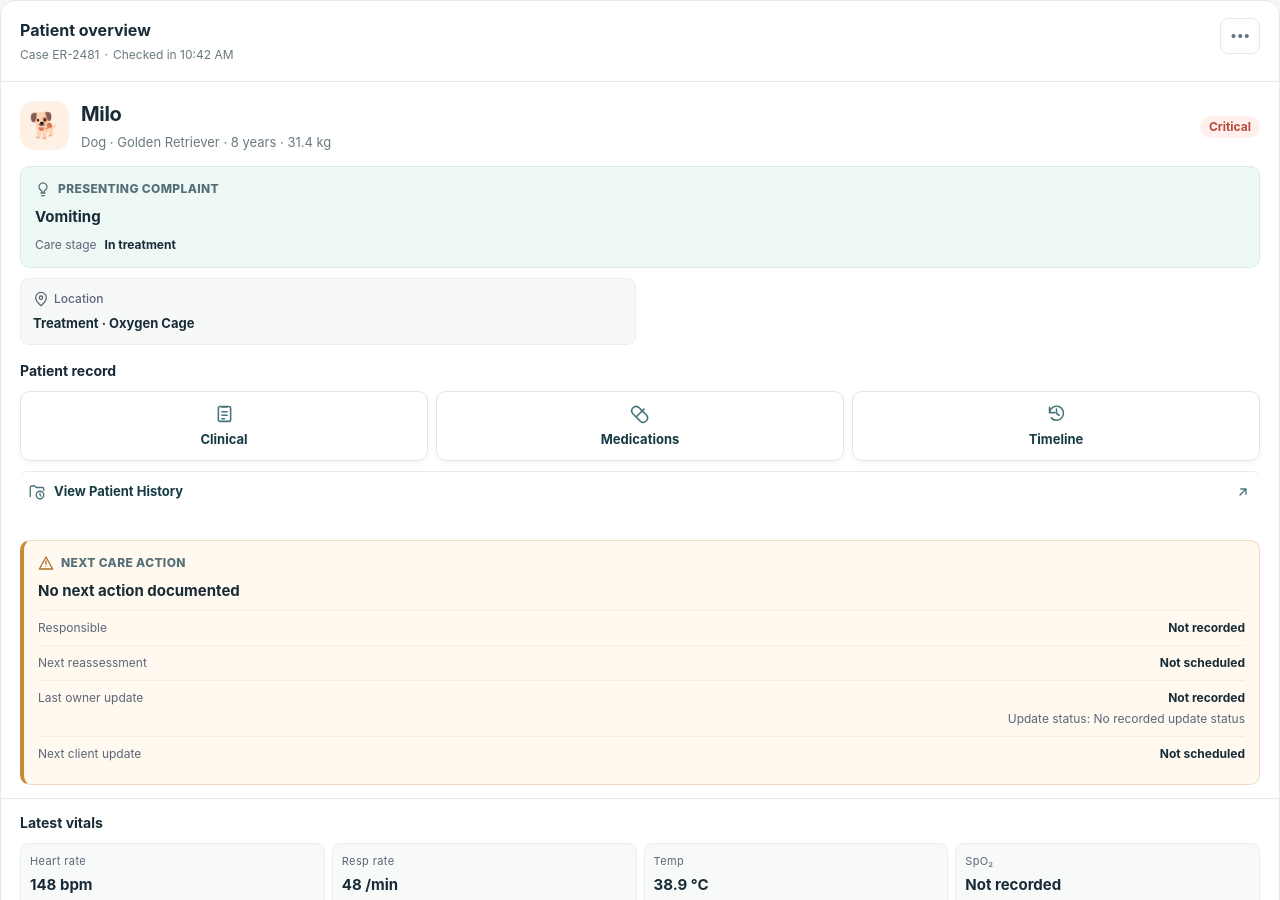
PatientOverviewPanel › lists tasks with done and pending in the Tasks and due items view
Click the button named "More actions".
click(1240, 36)  # box [1220,18,1260,54]
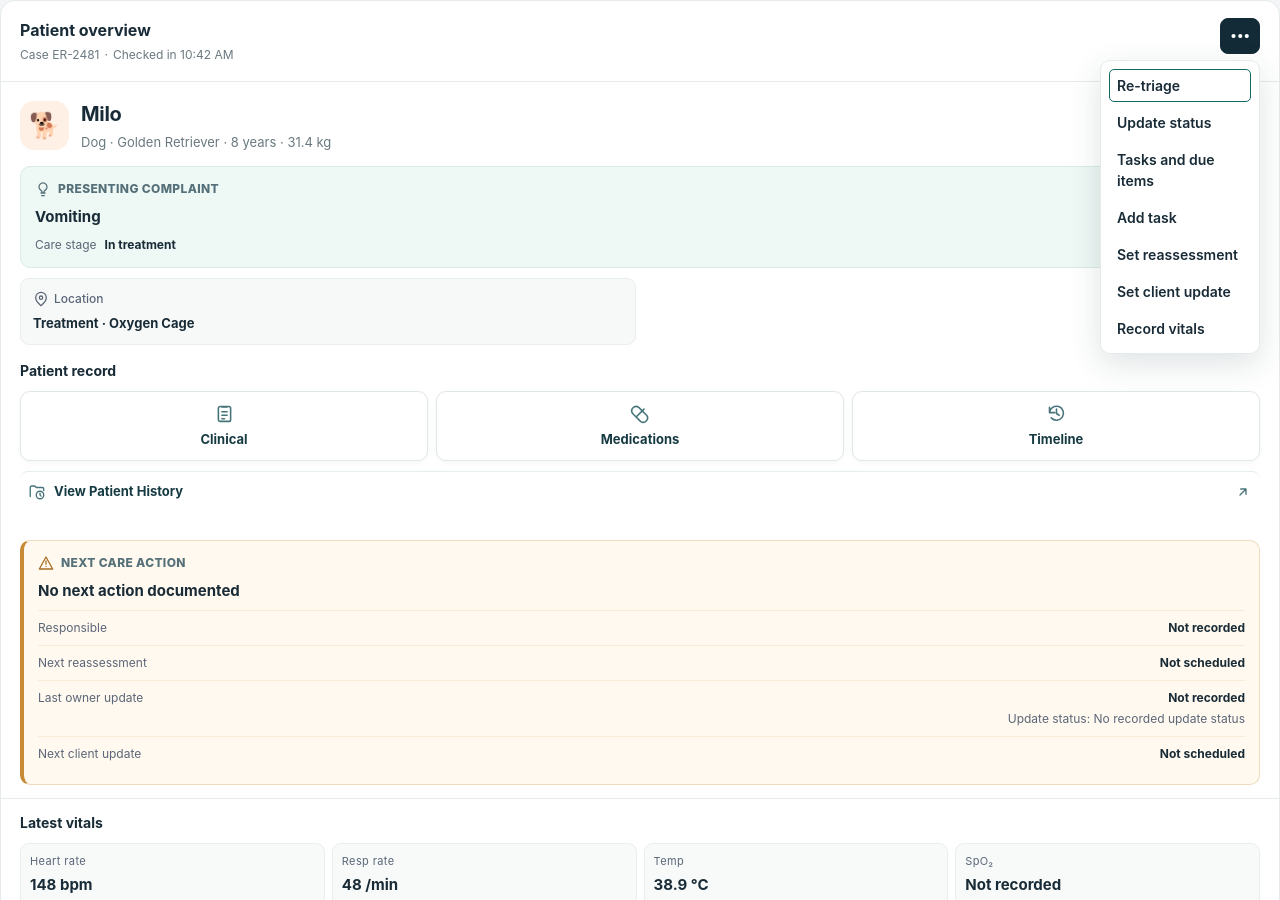
Click the button "Tasks and due items".
click(1180, 170)  # box [1107,140,1253,198]
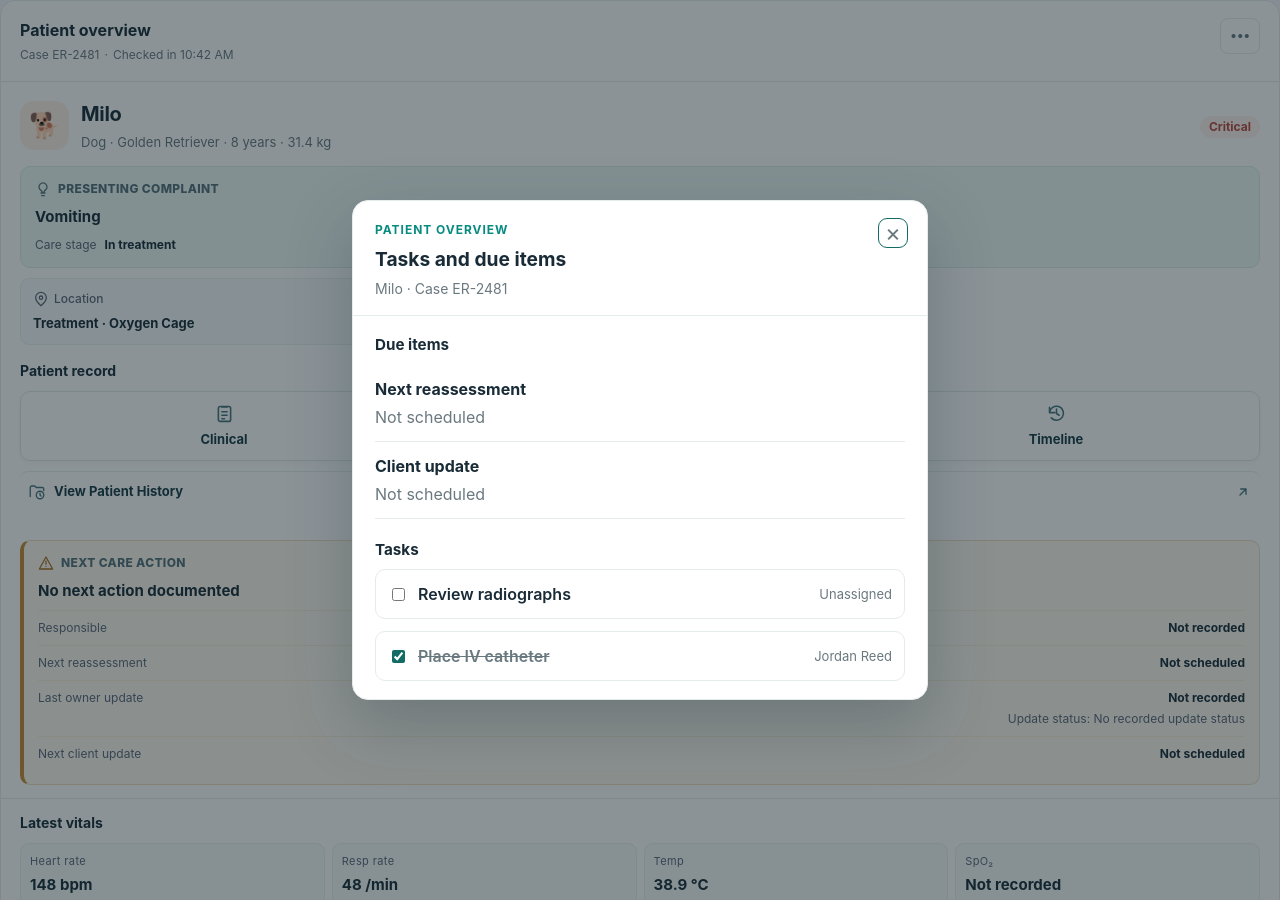
Check: the number of checkboxes is 2, box [392,588,405,601]; [392,650,405,663]
Check: the checkbox labelled "Review radiographs" is not checked, box [392,588,405,601]
Check: the checkbox labelled "Place IV catheter" is checked, box [392,650,405,663]
